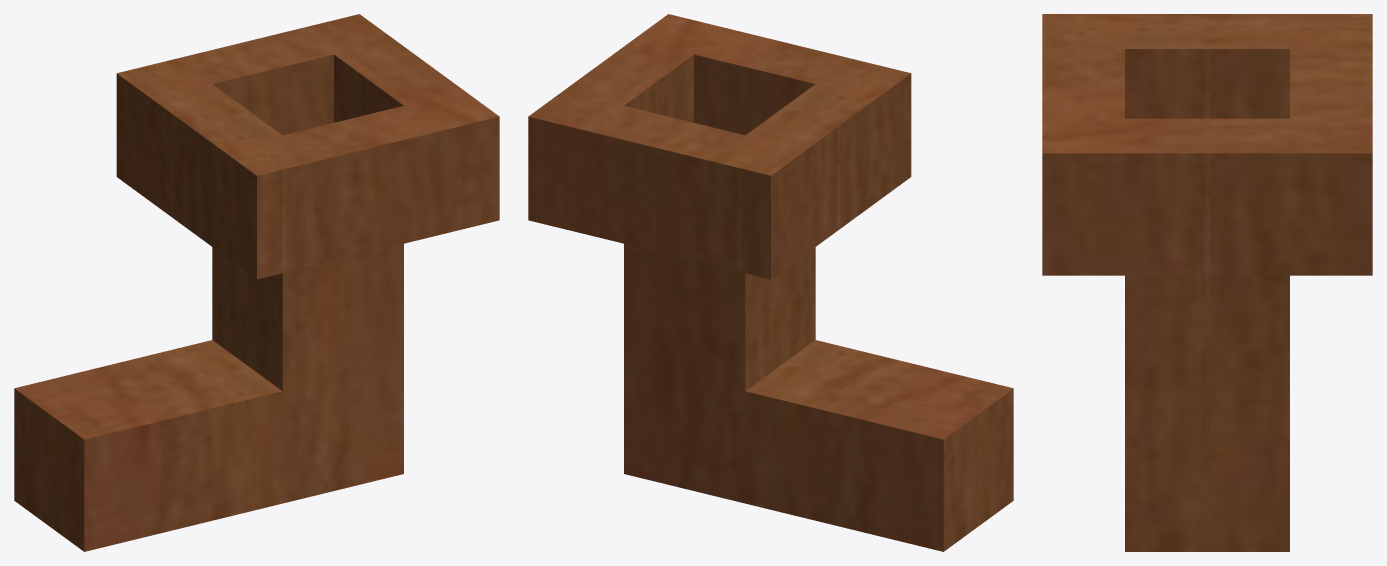
The model's file is torch.dae.
3 renders of one model, left to right at view 1: azimuth 30°, elevation 25°; view 2: azimuth 150°, elevation 25°; view 3: azimuth 270°, elevation 25°, orthographic. The views are drawn at different scales.
Visible parts, largest first — view 1: SketchUp (×3); view 2: SketchUp (×3); view 3: SketchUp (×3).
Part boxes in pixels (left/top/right/bottom): SketchUp (×3): left=14, top=14, right=499, bottom=551; SketchUp (×3): left=528, top=14, right=1013, bottom=551; SketchUp (×3): left=1042, top=14, right=1372, bottom=551.
Size of the model in its own units: 30.22 by 19.29 by 27.95.
Materials: 1 (1 with a texture image).
